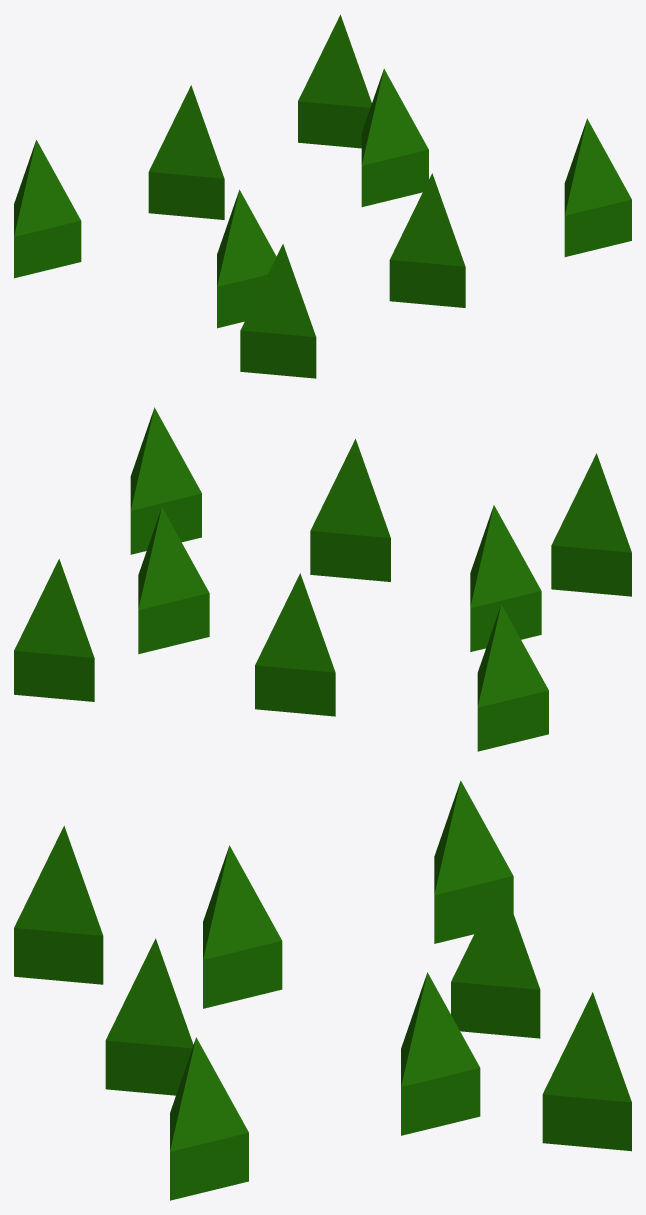
Rendered from grass.fbx.
3 renders of one model, top to bottom at view 1: azimuth 30°, elevation 25°; view 2: azimuth 150°, elevation 25°; view 3: azimuth 270°, elevation 25°, orthographic. The views are drawn at different scales.
Visible parts, largest first — view 1: grass; view 2: grass; view 3: grass.
Boxes of the visible parts, <box> form: grass: <box>14,14,631,378</box>; grass: <box>14,407,631,751</box>; grass: <box>14,780,631,1200</box>.
Bounding box in the file's own units: 203 × 48.5 × 182.
